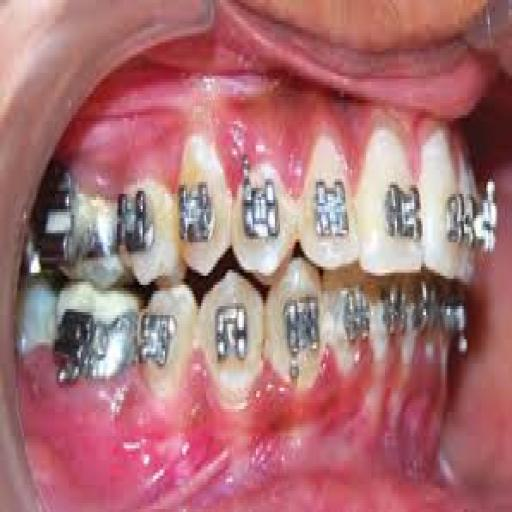correct_brace: (194, 267, 266, 416), (172, 124, 230, 272), (238, 153, 281, 245), (380, 170, 426, 249), (312, 174, 353, 248), (211, 299, 251, 370)
incorrect_brace: (296, 125, 361, 274), (177, 182, 215, 252)
